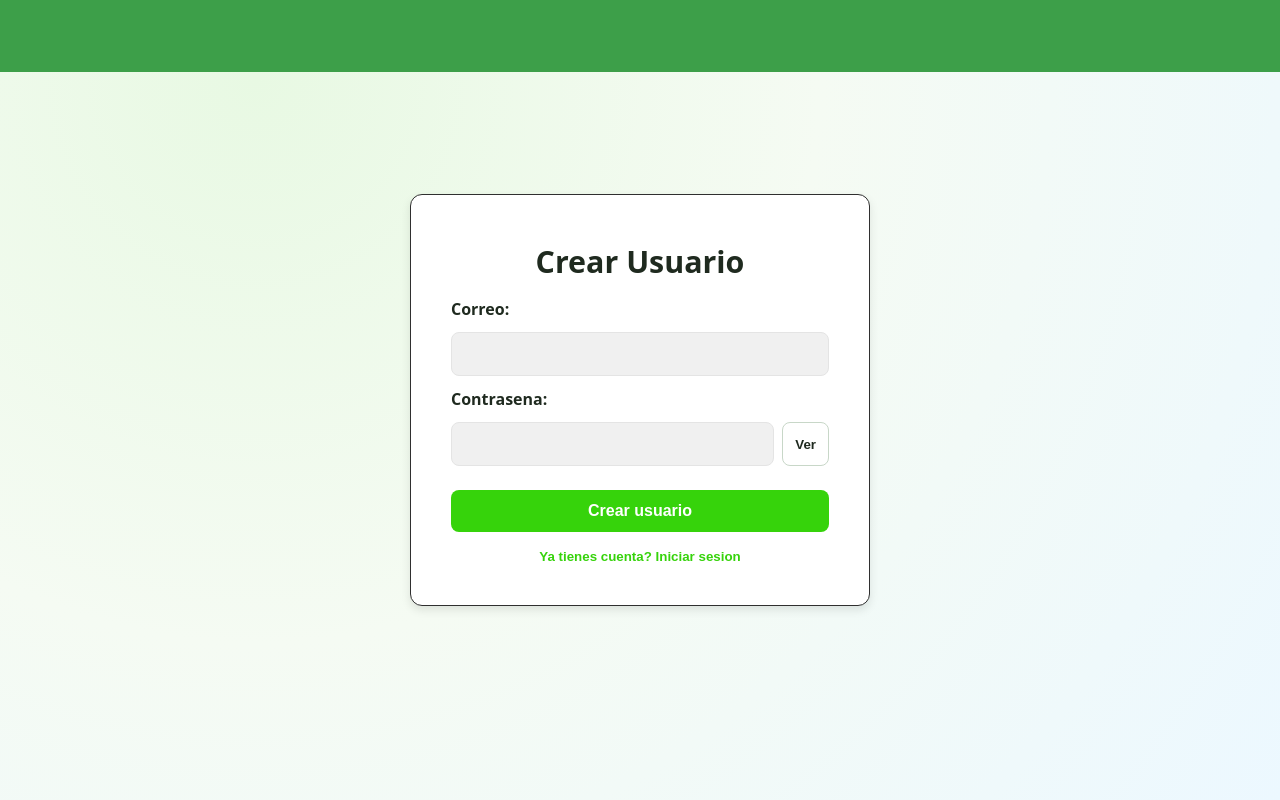
Test: Register navigation › navigates from register to login using bottom text
Click the button with aria-label "Ir a login": click(640, 556) [533,548,747,565]
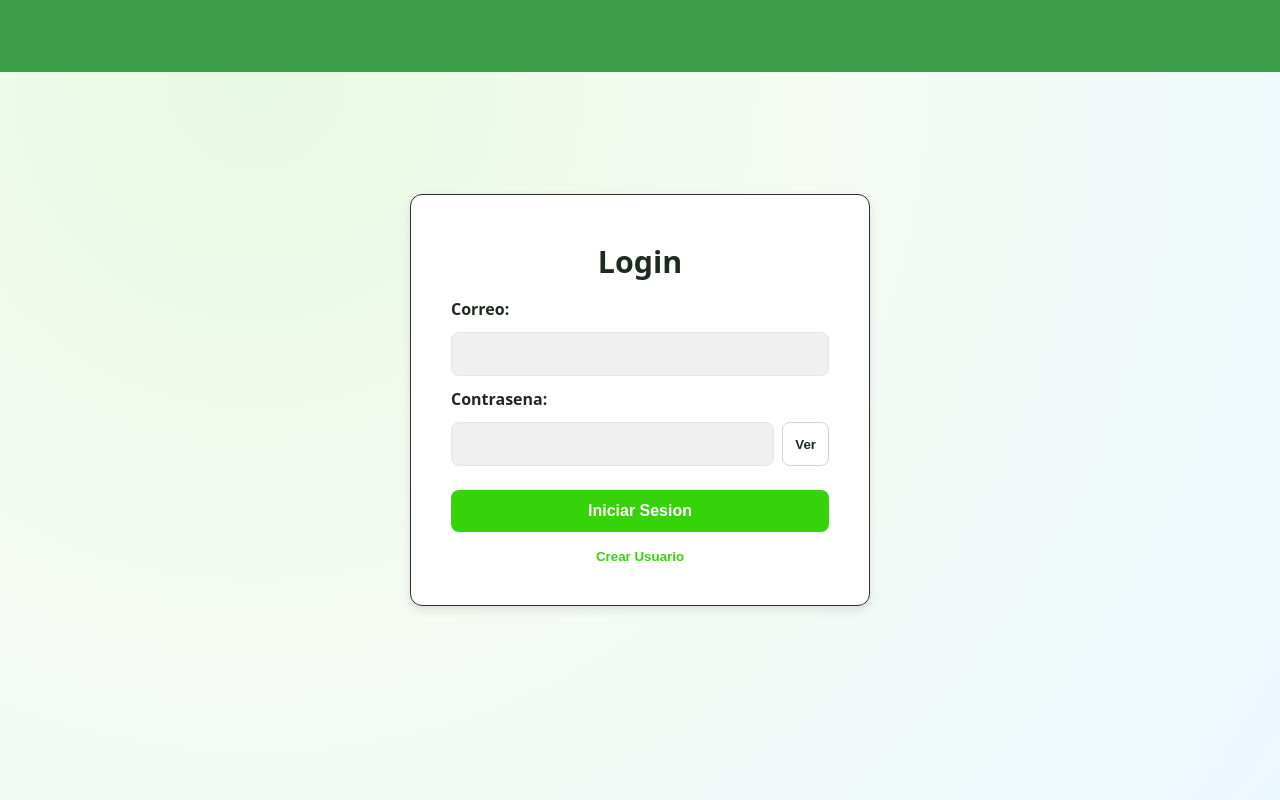
expect the heading "Login" is shown: met, box [598,241,682,282]
